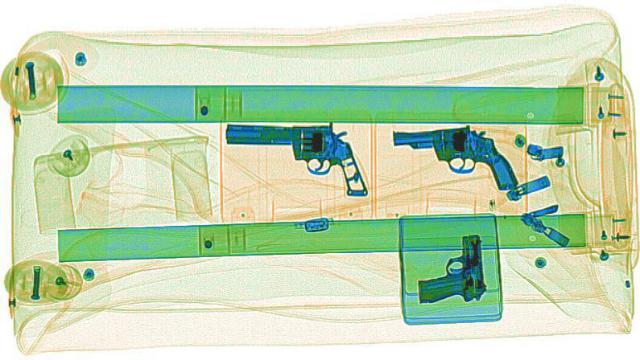Gun: (385, 116, 525, 200), (218, 121, 368, 195), (412, 232, 484, 301)
